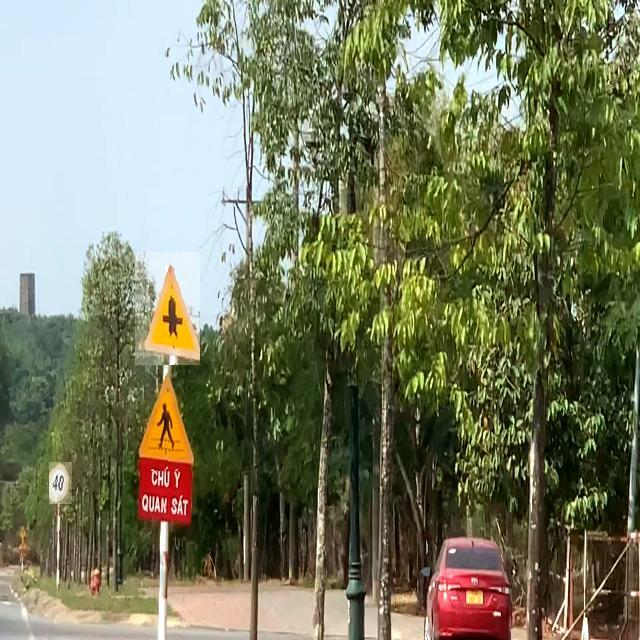P-127: (49, 462, 72, 504)
W-207a: (135, 252, 200, 365)
W-224: (135, 367, 197, 471)
